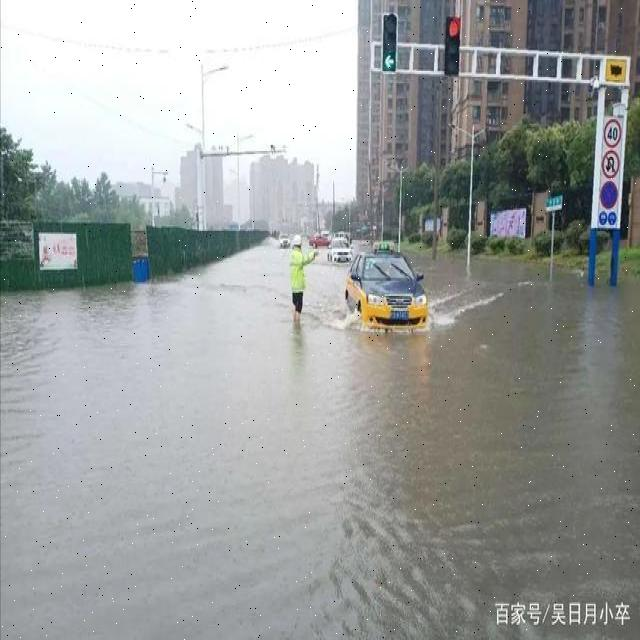rescuer: (281, 224, 321, 314)
